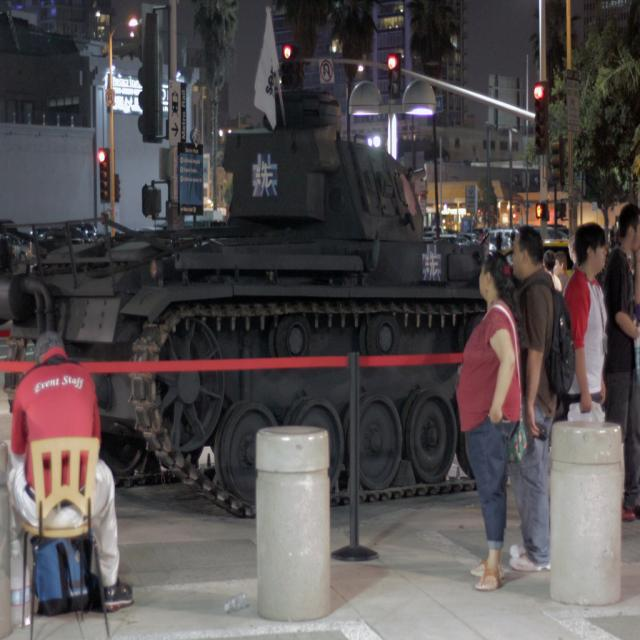tank: (0, 88, 487, 516)
